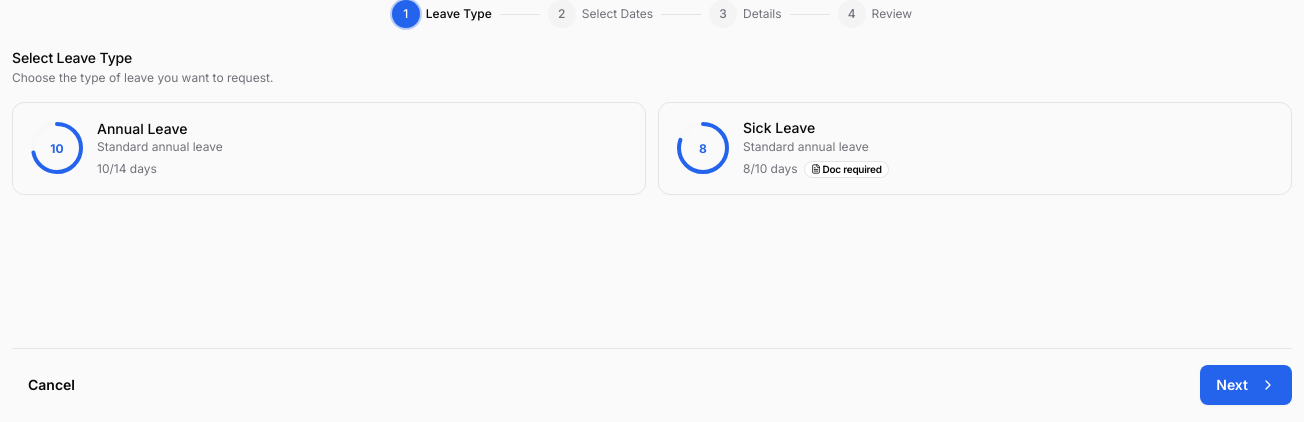
Test case: LeaveRequestWizard › Step 1: Leave Type Selection › advances to step 2 after selecting a leave type
The width and height of the screenshot is (1304, 422).
What coordinates should you click on to do the following:
click the text "Annual Leave"
I would click on:
 (142, 128)
Its box is [97,120,187,136].
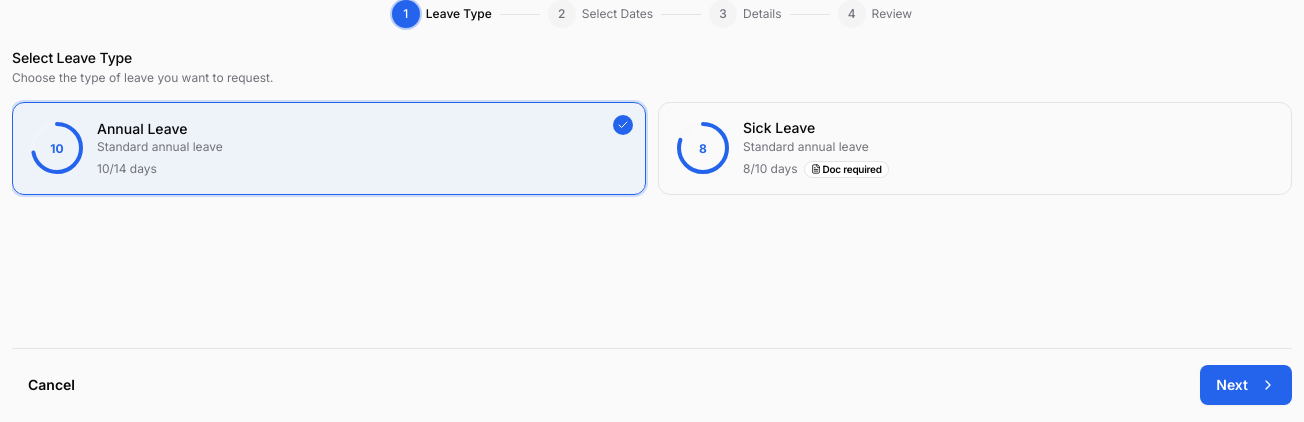
What coordinates should you click on to do the following:
click the button "Next"
I would click on:
 (1246, 385)
Its box is [1200,365,1292,405].
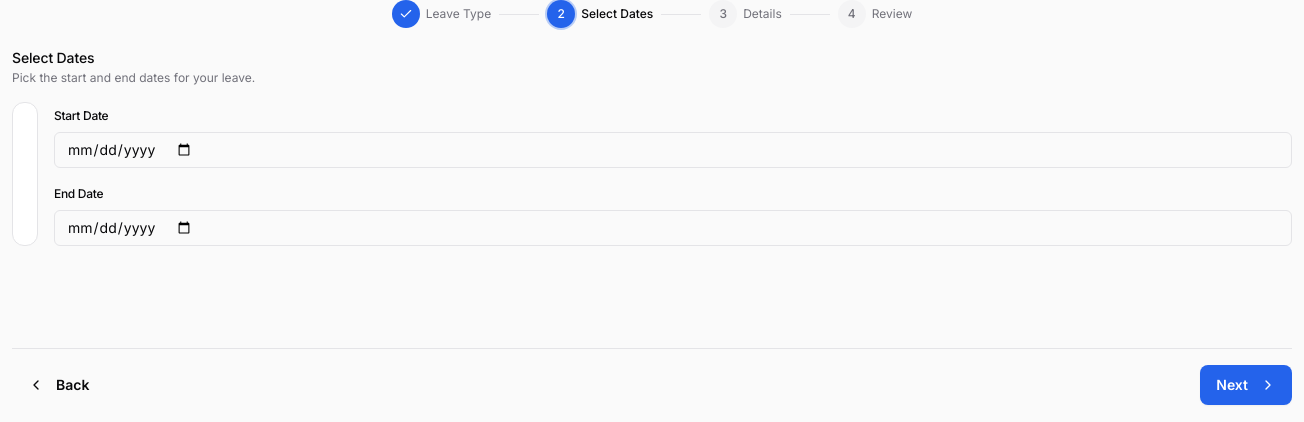
Expected: the heading "Select Dates" is shown, [12,49,94,66]
